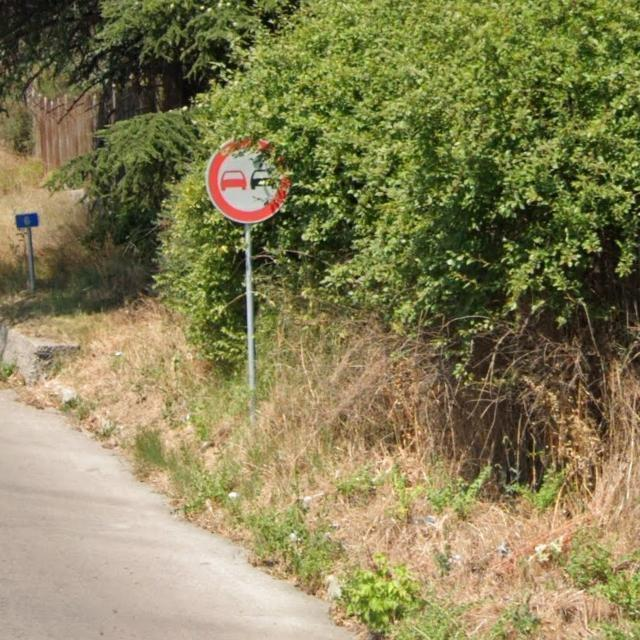forb_overtake: (206, 135, 291, 226)
